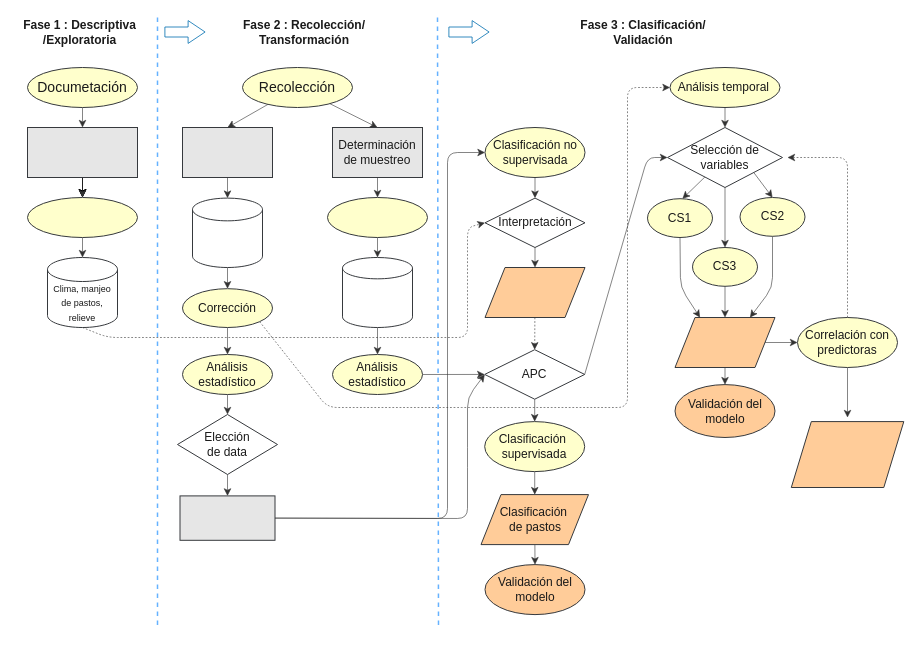
Some shapes in this 921 by 647 pixel diagram are drawn without their labels. Here are the shapes that lost their labels. From the top down, the centre of each, then its label:
At point (82, 152): "Fuentes documentales Mapas".
At point (227, 152): "Adquisición de IS".
At point (82, 217): "Caracterización".
At point (227, 232): "Bandas espectrales".
At point (377, 217): "Muestreo en campo".
At point (377, 292): "Data: Edáfica Ecológica Topográfica".
At point (534, 292): "Categorías/ leyenda".
At point (724, 342): "Mapas de predicción".
At point (847, 454): "Evaluación del estado de degradación".
At point (227, 517): "Cálculo de índices VTE".
